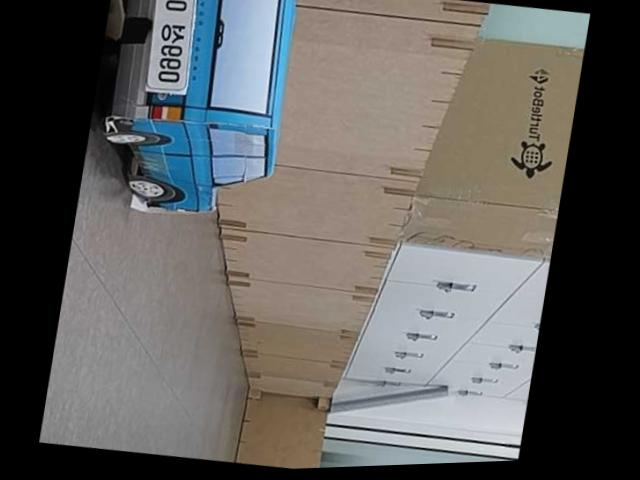car: (88, 0, 307, 230)
id: (138, 0, 207, 98)
